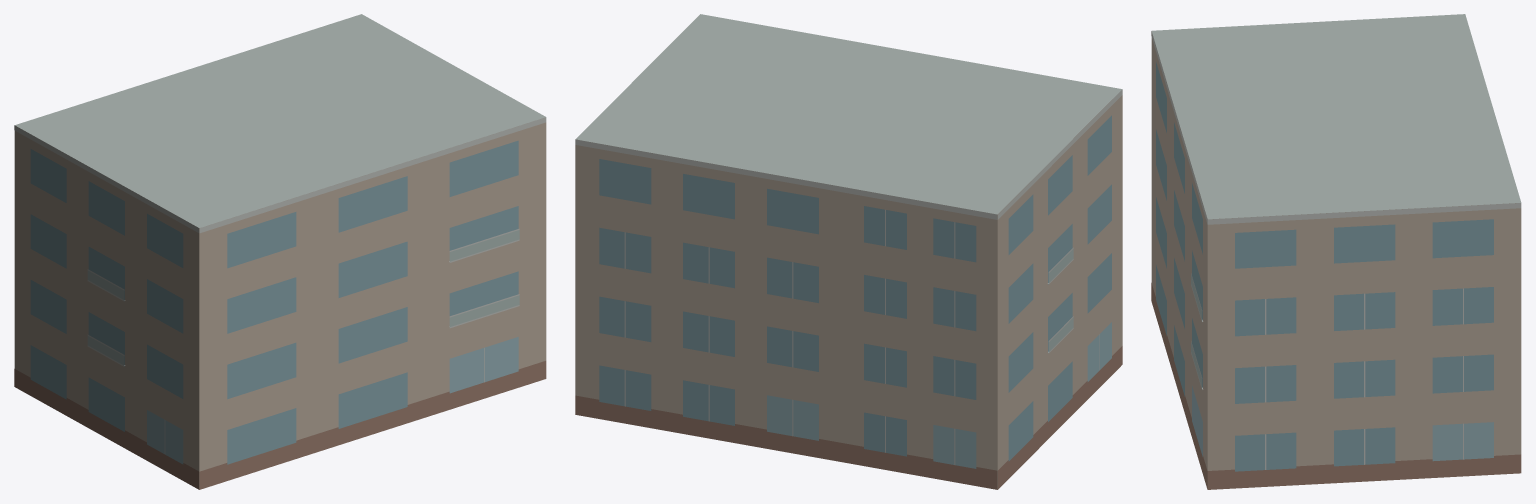
The model's file is residential-d7cb1b84-104b-4d4f-b776-d138971532f9.glb.
3 views of the same model, side by side, from view 1: azimuth 30°, elevation 25°; view 2: azimuth 150°, elevation 25°; view 3: azimuth 270°, elevation 25° (orthographic). The views are drawn at different scales.
Parts seen in each view (by area): view 1: residential-d7cb1b84-104b-4d4f-b776-d138971532f9.tmp; view 2: residential-d7cb1b84-104b-4d4f-b776-d138971532f9.tmp; view 3: residential-d7cb1b84-104b-4d4f-b776-d138971532f9.tmp.
Boxes of the visible parts, x1,y1,x2,y2 form: residential-d7cb1b84-104b-4d4f-b776-d138971532f9.tmp: (14, 14, 546, 489); residential-d7cb1b84-104b-4d4f-b776-d138971532f9.tmp: (575, 14, 1122, 489); residential-d7cb1b84-104b-4d4f-b776-d138971532f9.tmp: (1151, 14, 1521, 489).
Size of the model in its own units: 19.88 by 12.2 by 15.13.
